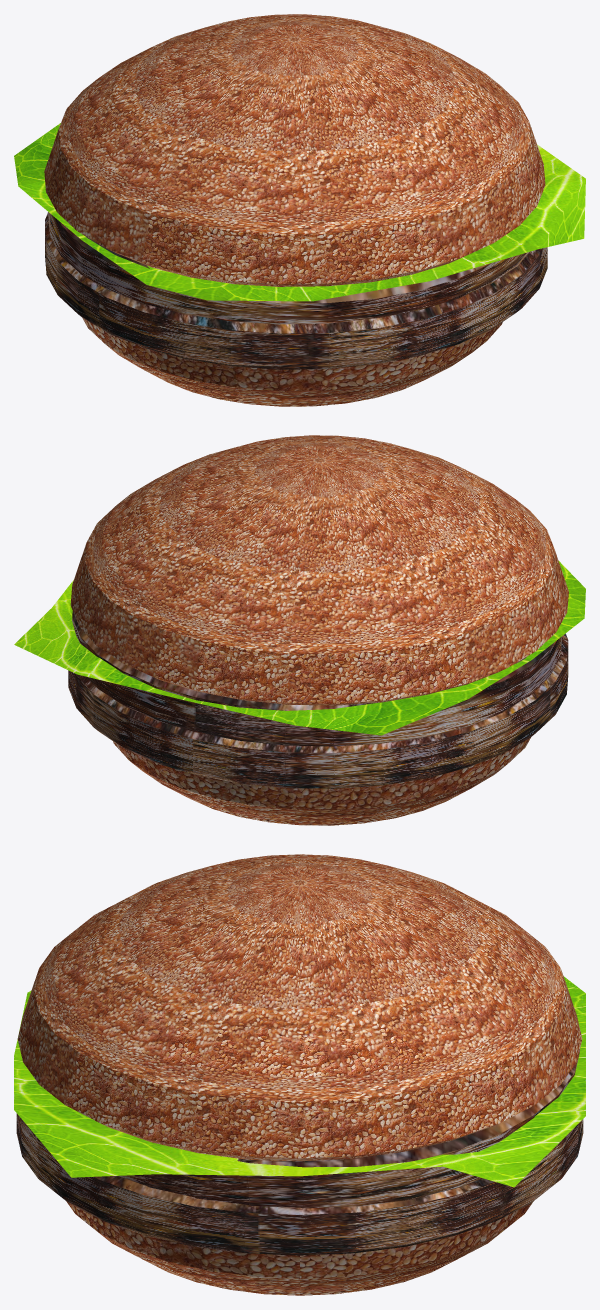
Rendered from ANVORGUESA.fbx.
3 views of the same model, one above another, from view 1: azimuth 30°, elevation 25°; view 2: azimuth 150°, elevation 25°; view 3: azimuth 270°, elevation 25° (orthographic). The views are drawn at different scales.
Visible parts, largest first — view 1: Sphere, Cylinder, Plane, Cylinder.001, Sphere.001; view 2: Sphere, Cylinder, Cylinder.001, Sphere.001, Plane; view 3: Sphere, Cylinder, Plane, Sphere.001, Cylinder.001.
Part boxes in pixels (box(x1,y1,x2,y2)): Sphere: box(44, 14, 545, 286); Cylinder: box(45, 212, 547, 369); Plane: box(14, 123, 585, 301); Cylinder.001: box(48, 212, 529, 324); Sphere.001: box(82, 318, 502, 406); Sphere: box(70, 435, 568, 705); Cylinder: box(68, 633, 568, 788); Cylinder.001: box(72, 611, 562, 746); Sphere.001: box(113, 737, 530, 825); Plane: box(14, 560, 585, 735); Sphere: box(17, 854, 582, 1161); Cylinder: box(16, 1113, 583, 1255); Plane: box(14, 976, 585, 1187); Sphere.001: box(66, 1201, 533, 1295); Cylinder.001: box(118, 1050, 579, 1208).
Bounding box in the file's own units: 228 × 161 × 226.
5 materials, 5 textured.
